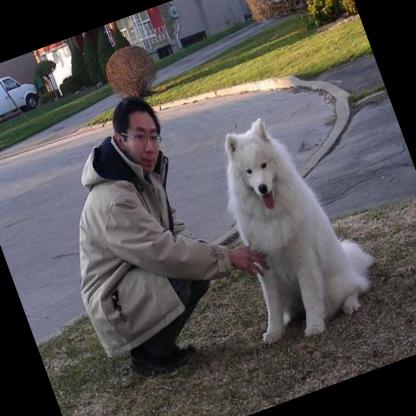Samoyed: (188, 95, 392, 352)
